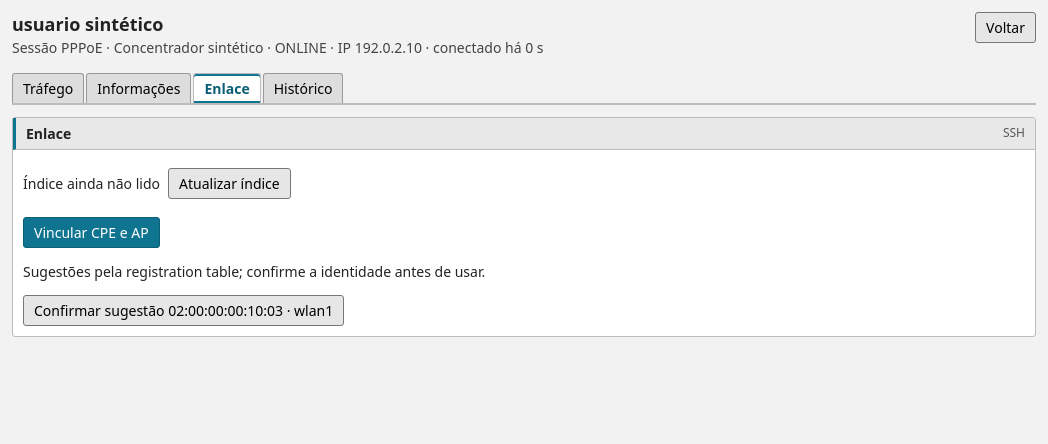
Scenario: confirms a suggested link through the new session screen
Click the button "Confirmar sugestão 02:00:00:00:10:03 · wlan1": [184, 310] box [23,295,344,326]
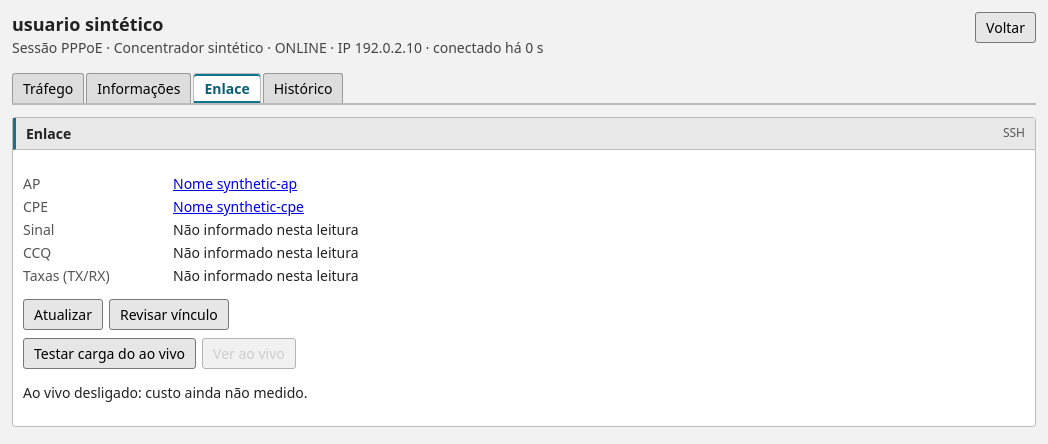
Now the button "Revisar vínculo" is shown, box [109,299,229,330]
